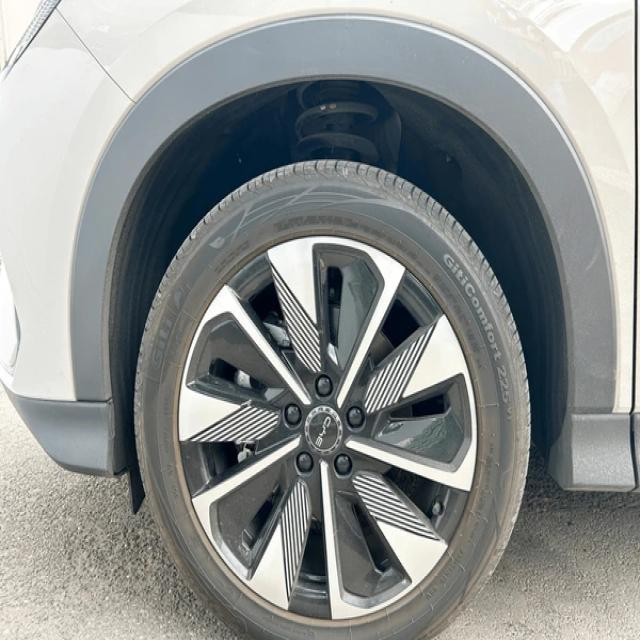byd: (313, 412, 335, 452)
